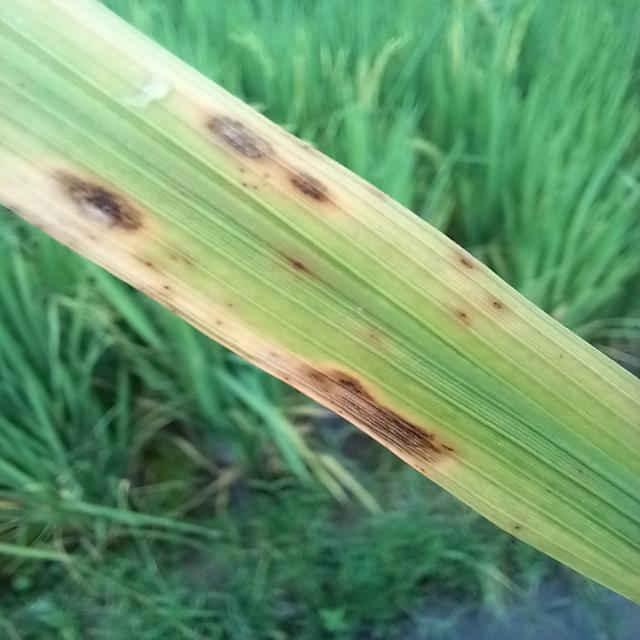Rice Tungro: (258, 348, 455, 474), (51, 169, 148, 236), (272, 167, 342, 211)
